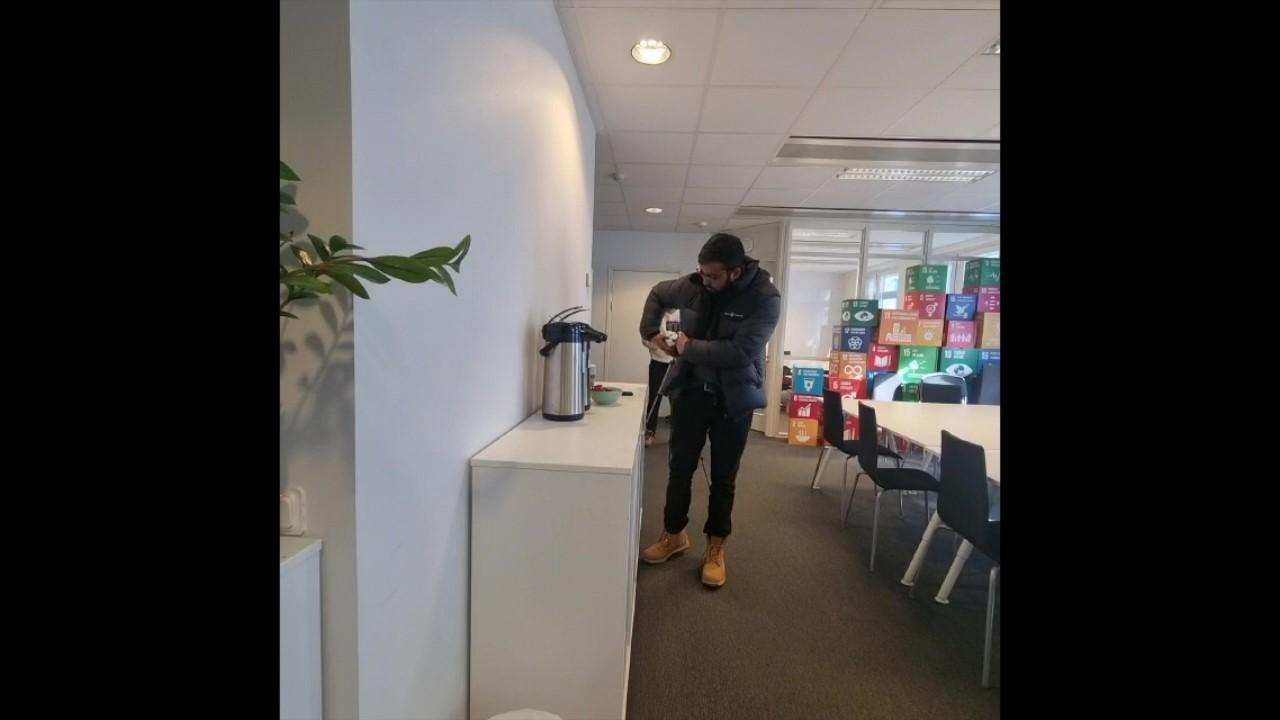shoplifting: (644, 234, 781, 590)
